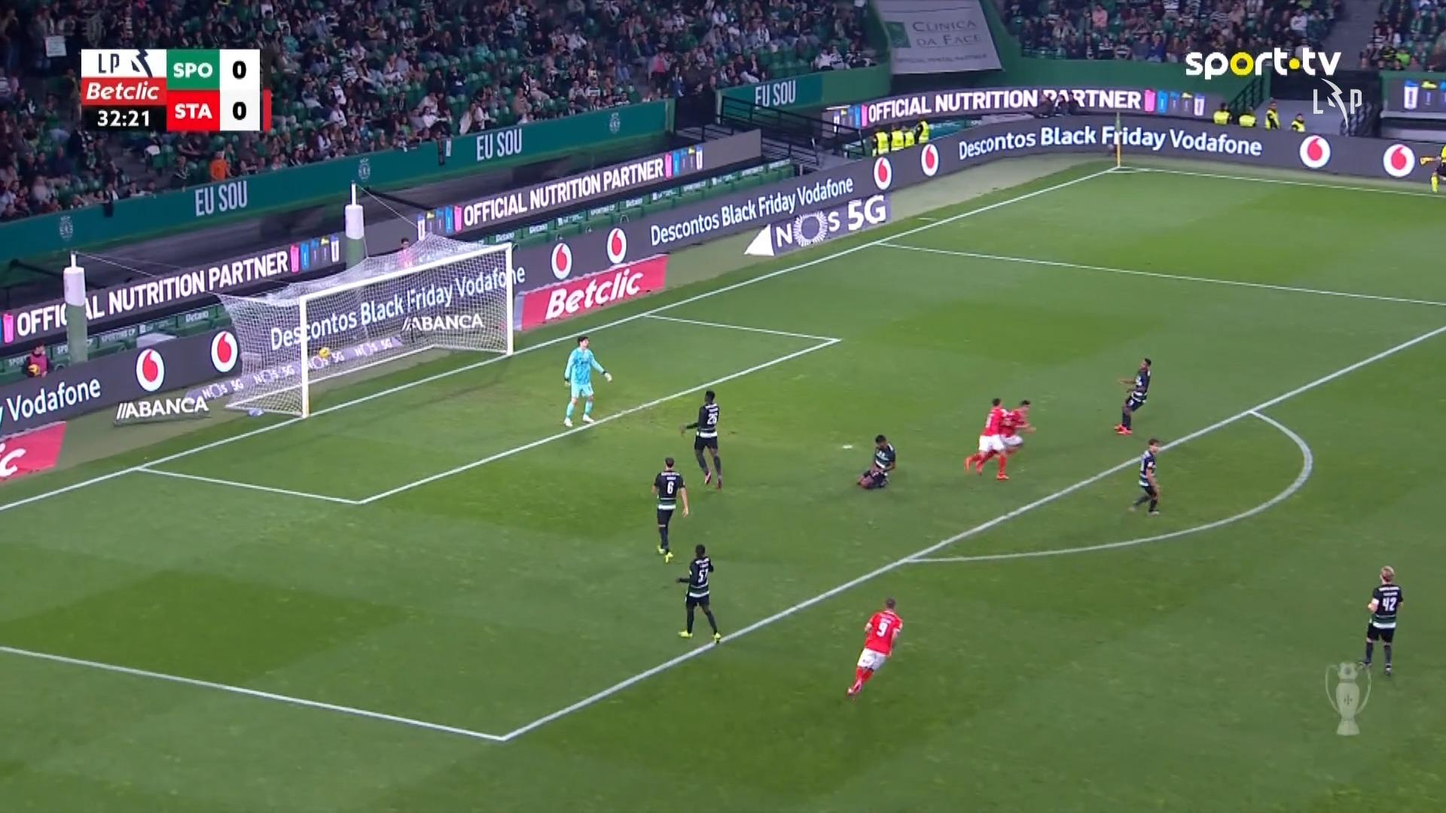ball: (319, 347, 330, 358)
goalkeeper: (561, 335, 612, 427)
player: (845, 596, 903, 699), (1357, 565, 1403, 675), (676, 544, 721, 644), (679, 388, 723, 489), (964, 396, 1012, 480), (651, 456, 689, 562), (1113, 356, 1152, 434), (997, 398, 1036, 474), (1127, 437, 1161, 515), (856, 433, 895, 489)
